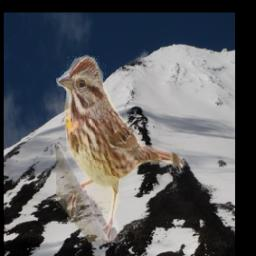Sparrow: (56, 54, 185, 244)
